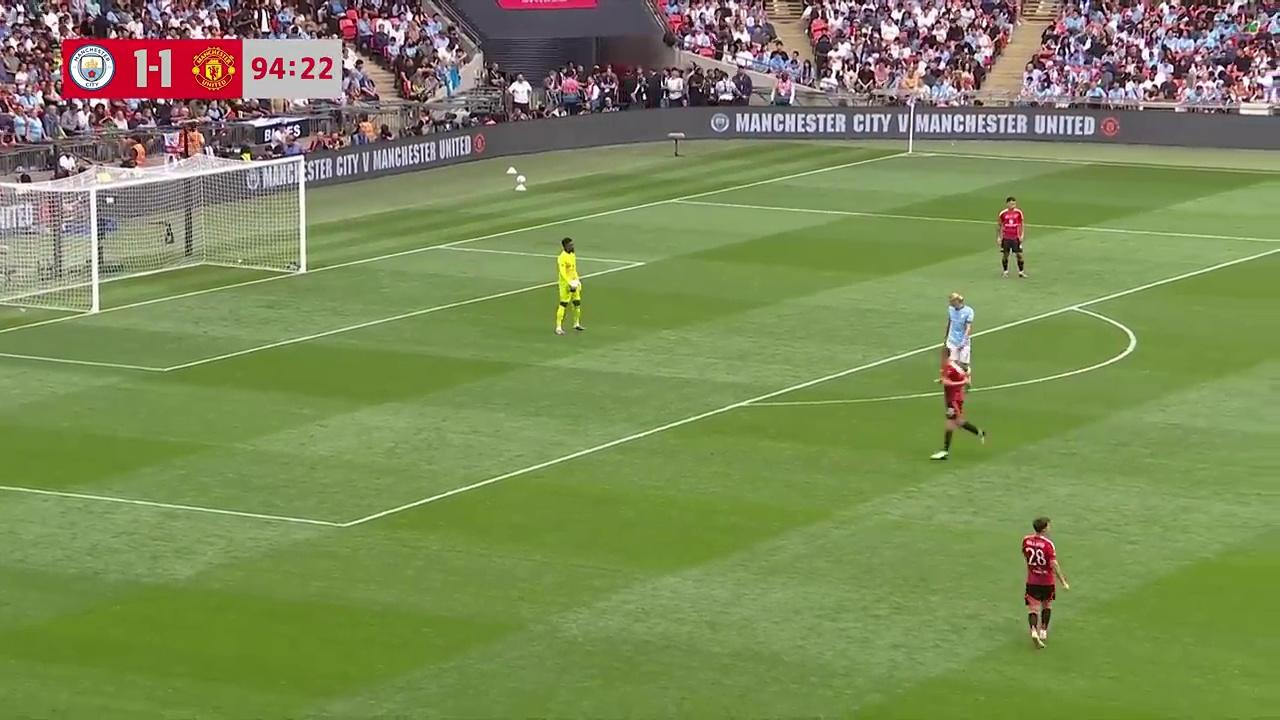player: (1021, 516, 1071, 649), (933, 352, 987, 459), (554, 238, 584, 335), (996, 196, 1025, 278), (946, 291, 974, 374)
